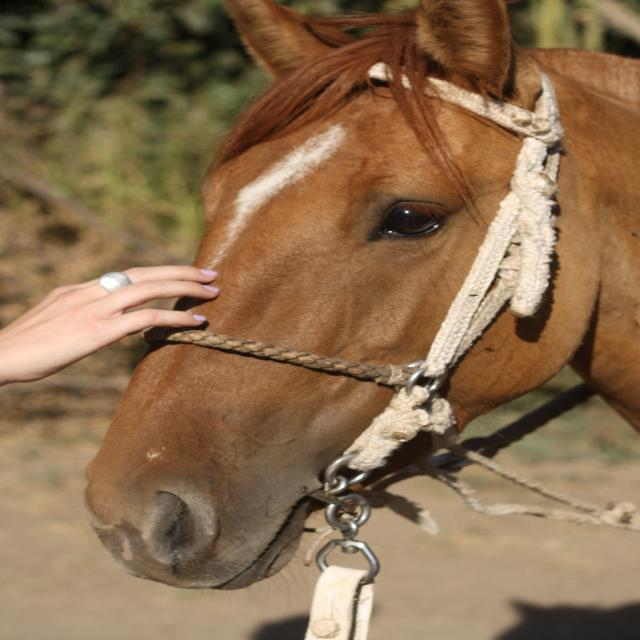Horse: (86, 0, 639, 590)
